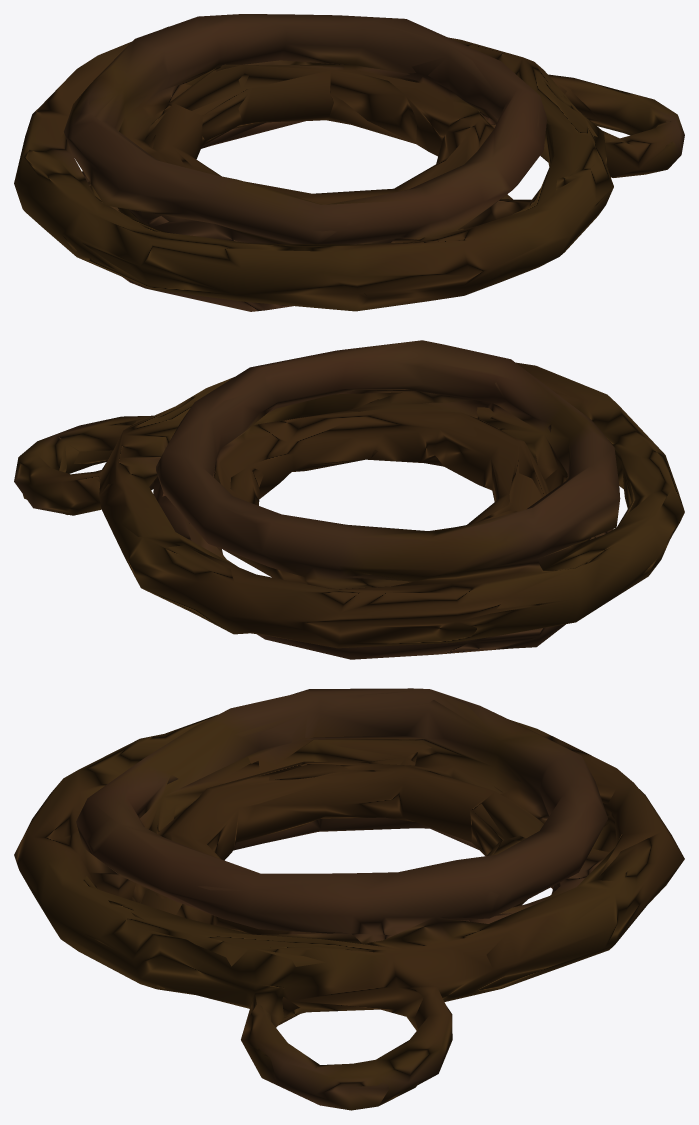
The model's file is gen3d-lasso-lod0.glb.
The picture shows the model from 3 angles, top to bottom: view 1: azimuth 30°, elevation 25°; view 2: azimuth 150°, elevation 25°; view 3: azimuth 270°, elevation 25°; orthographic projection. The views are drawn at different scales.
Visible parts, largest first — view 1: part_0; view 2: part_0; view 3: part_0.
Part boxes in pixels (left/top/right/bottom): part_0: left=14, top=14, right=684, bottom=311; part_0: left=14, top=340, right=684, bottom=659; part_0: left=14, top=688, right=684, bottom=1110.
Size of the model in its own units: 4.9 by 0.9907 by 4.29.
